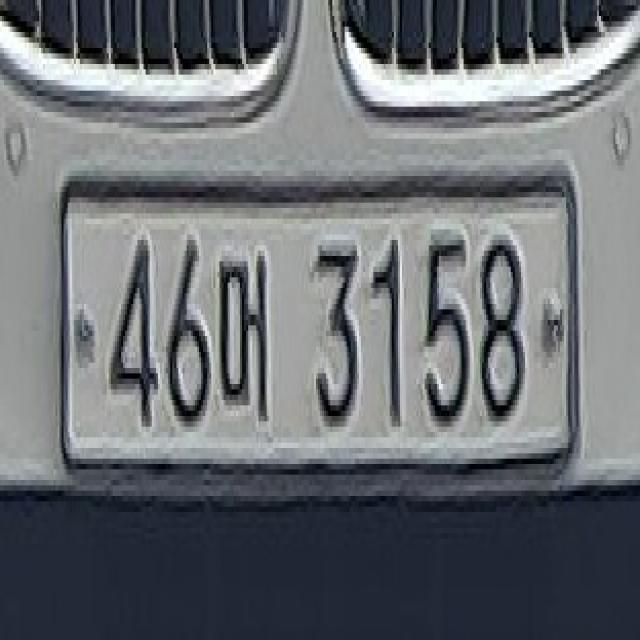1: (367, 227, 408, 441)
3: (309, 226, 364, 449)
4: (100, 224, 162, 454)
5: (418, 224, 478, 443)
6: (166, 221, 214, 459)
8: (481, 224, 526, 436)
license_plate: (51, 149, 588, 489)
meo: (216, 224, 278, 459)
